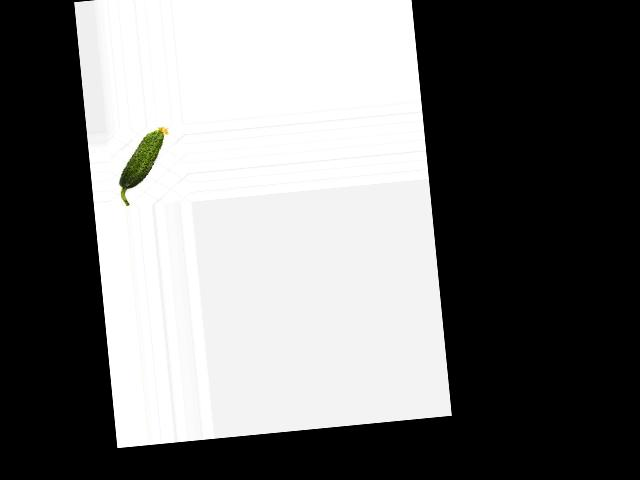cucumber: (113, 125, 175, 205)
